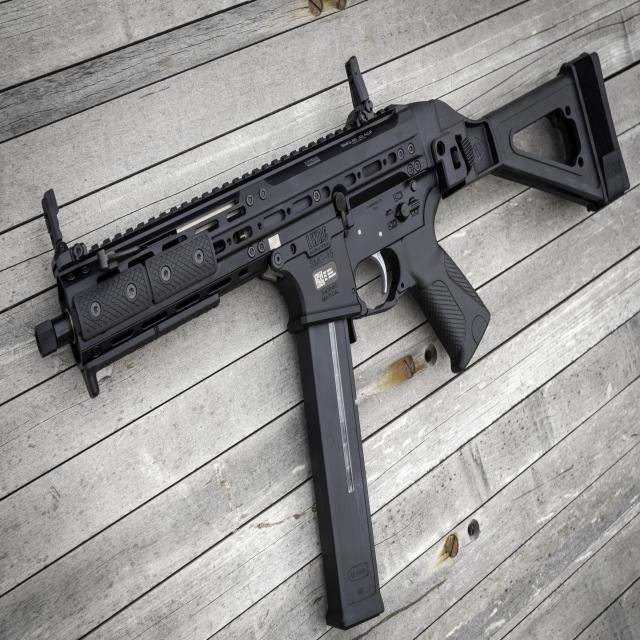Weapon: (35, 53, 629, 628)
